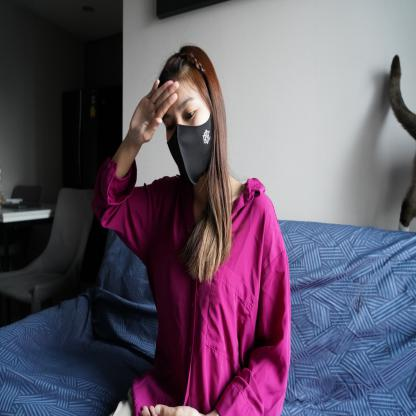Sick: (121, 76, 181, 148)
